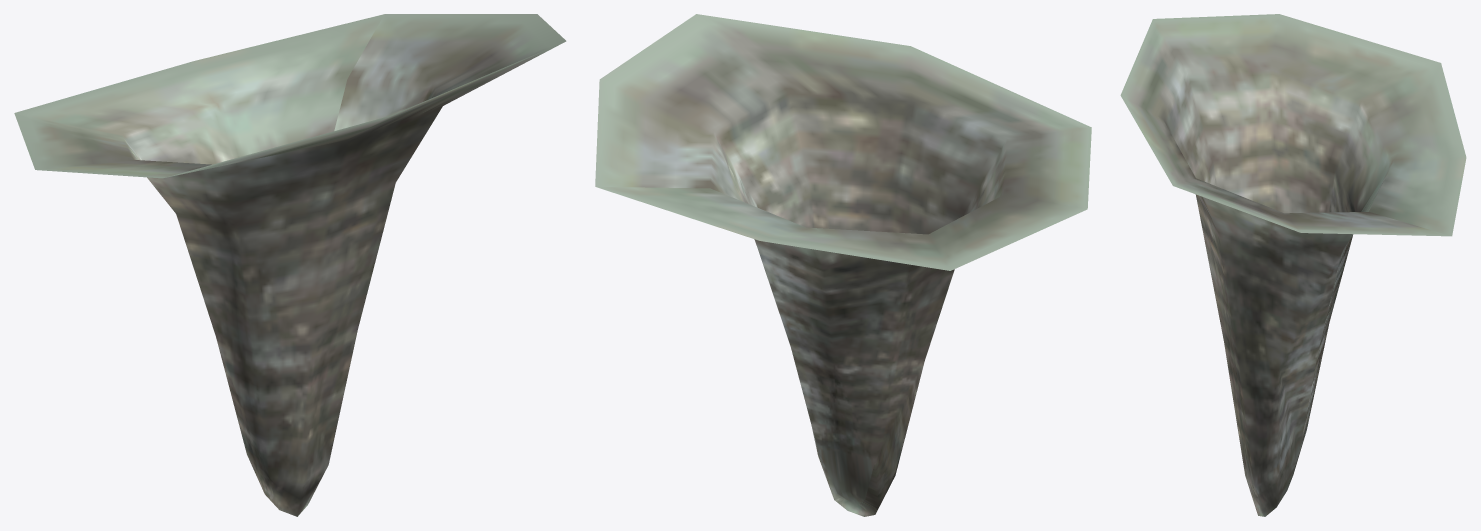
Rendered from TROLLHOLE02_PS-MAINSTALAG65.fbx.
3 renders of one model, left to right at view 1: azimuth 30°, elevation 25°; view 2: azimuth 150°, elevation 25°; view 3: azimuth 270°, elevation 25°, orthographic. The views are drawn at different scales.
Visible parts, largest first — view 1: TROLLHOLE02_PS-MAINSTALAG65; view 2: TROLLHOLE02_PS-MAINSTALAG65; view 3: TROLLHOLE02_PS-MAINSTALAG65.
Boxes of the visible parts, <box> form: TROLLHOLE02_PS-MAINSTALAG65: <box>14,14,566,516</box>; TROLLHOLE02_PS-MAINSTALAG65: <box>595,14,1091,516</box>; TROLLHOLE02_PS-MAINSTALAG65: <box>1120,14,1466,516</box>.
Bounding box in the file's own units: 30958 × 26117 × 18814.
Materials: 1 (1 with a texture image).
